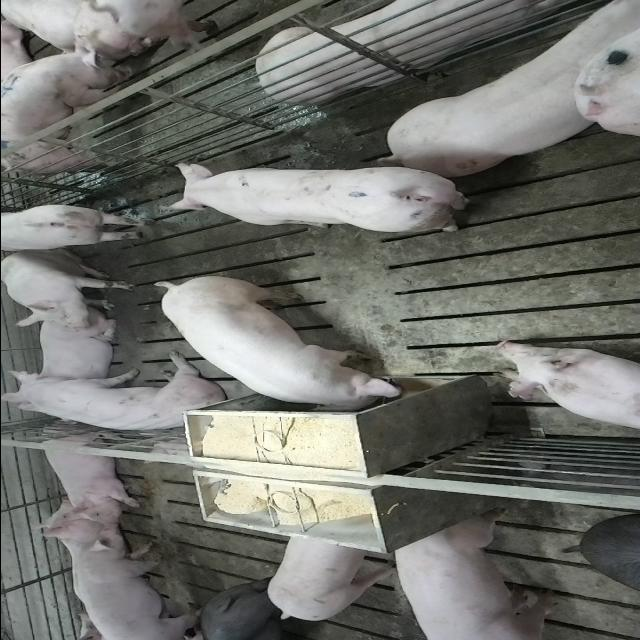Feeding: (153, 280, 404, 420)
Sitting: (5, 357, 231, 437), (0, 249, 138, 335)
Standing: (167, 162, 478, 234), (386, 514, 562, 639), (0, 37, 134, 177), (66, 519, 204, 637), (266, 533, 400, 622), (2, 202, 154, 254), (191, 583, 307, 640)
Sternal_lying: (250, 0, 577, 102), (492, 342, 640, 434), (31, 425, 140, 524), (30, 316, 120, 382)
